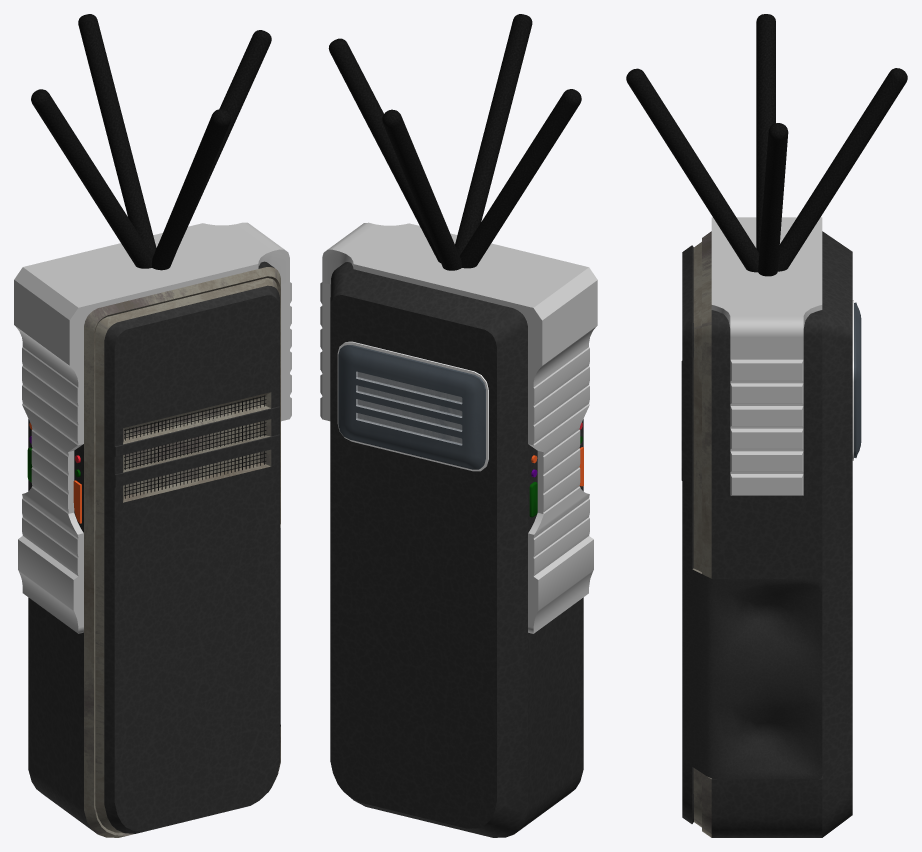
File: MiliraryRadioRebuilded.fbx
3 renders of one model, left to right at view 1: azimuth 30°, elevation 25°; view 2: azimuth 150°, elevation 25°; view 3: azimuth 270°, elevation 25°, orthographic.
Parts seen in each view (by area): view 1: Plane, Plane.004, Plane.002, Cylinder.003, Cylinder.002, Plane.003, Plane.006, Cylinder.004, Cylinder.001, Plane.005; view 2: Plane, Plane.004, Plane.007, Plane.002, Cylinder.004, Cylinder.002, Plane.003, Cylinder.003, Cylinder.001, Plane.005; view 3: Plane, Plane.001, Plane.004, Plane.005, Cylinder.004, Cylinder.003, Cylinder.002, Cylinder.001, Plane.007.
Part boxes in pixels (x1,y1,x2,y2): Plane: [28, 261, 280, 837]; Plane.004: [14, 222, 289, 387]; Plane.002: [22, 347, 83, 576]; Cylinder.003: [78, 14, 156, 256]; Cylinder.002: [31, 89, 152, 268]; Plane.003: [18, 536, 83, 633]; Plane.006: [124, 395, 266, 498]; Cylinder.004: [152, 109, 230, 270]; Cylinder.001: [156, 30, 271, 249]; Plane.005: [281, 282, 291, 421]; Plane: [330, 262, 583, 837]; Plane.004: [322, 222, 597, 387]; Plane.007: [337, 341, 488, 471]; Plane.002: [528, 347, 589, 576]; Cylinder.004: [455, 14, 532, 255]; Cylinder.002: [459, 89, 581, 268]; Plane.003: [528, 536, 593, 633]; Cylinder.003: [382, 109, 461, 270]; Cylinder.001: [328, 38, 440, 262]; Plane.005: [320, 282, 330, 421]; Plane: [681, 231, 852, 837]; Plane.001: [682, 565, 822, 779]; Plane.004: [711, 217, 822, 359]; Plane.005: [730, 359, 803, 495]; Cylinder.004: [626, 68, 759, 272]; Cylinder.003: [777, 68, 907, 271]; Cylinder.002: [756, 14, 775, 252]; Cylinder.001: [758, 123, 788, 276]; Plane.007: [852, 300, 861, 460].
Size of the model in its own units: 8.35 by 24.17 by 8.39.
